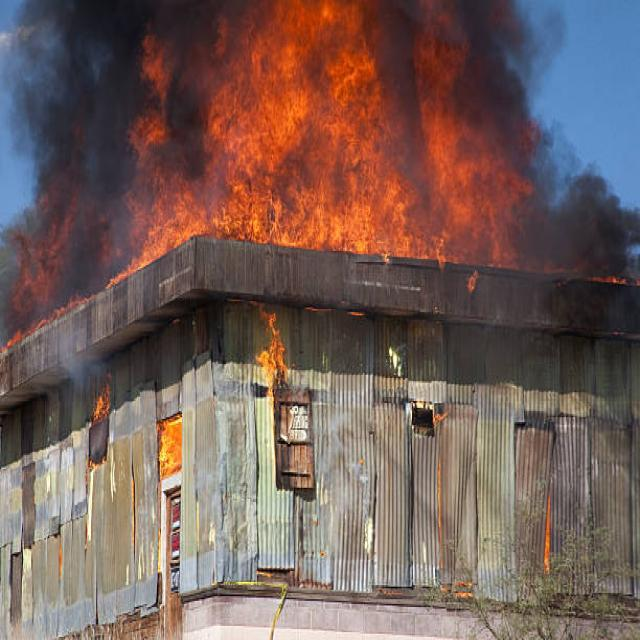Fire: (115, 0, 528, 246), (160, 421, 180, 476)
Smoke: (471, 0, 640, 269), (2, 0, 149, 282)
